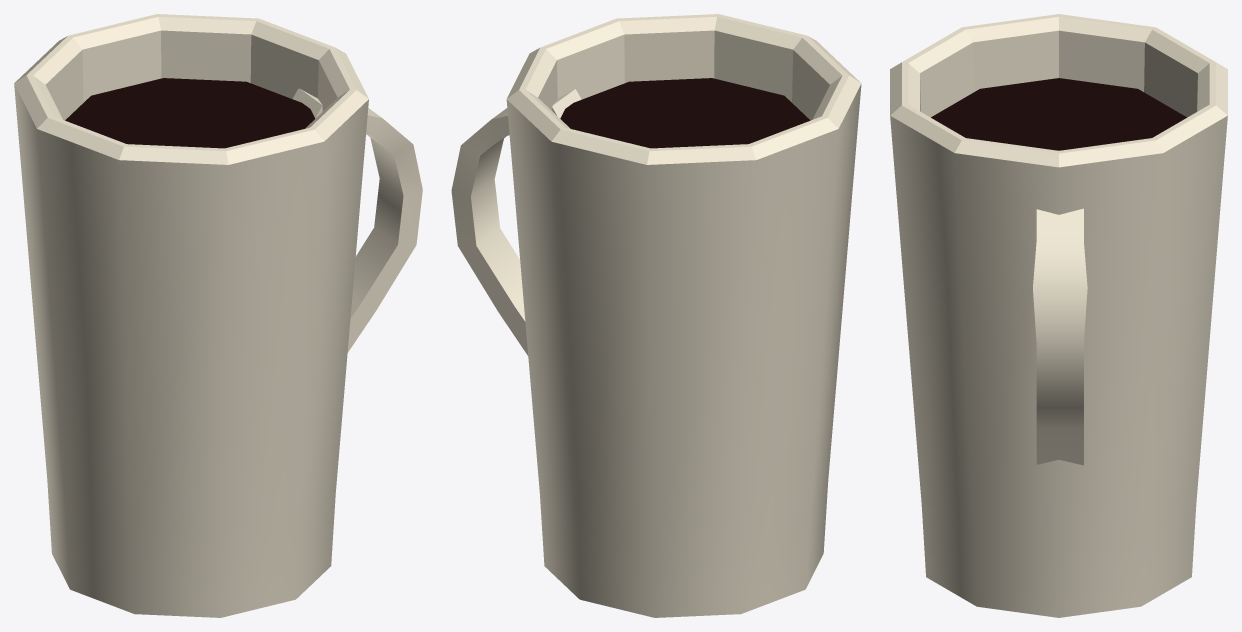
Rendered from SM_mug_01.fbx.
The picture shows the model from 3 angles, left to right: view 1: azimuth 30°, elevation 25°; view 2: azimuth 150°, elevation 25°; view 3: azimuth 270°, elevation 25°; orthographic projection.
Visible parts, largest first — view 1: mug_01; view 2: mug_01; view 3: mug_01.
Boxes of the visible parts, x1=… form: mug_01: x1=14, y1=14, x2=422, y2=617; mug_01: x1=451, y1=14, x2=861, y2=617; mug_01: x1=890, y1=14, x2=1227, y2=617.
Size of the model in its own units: 16.46 by 20.17 by 12.92.
